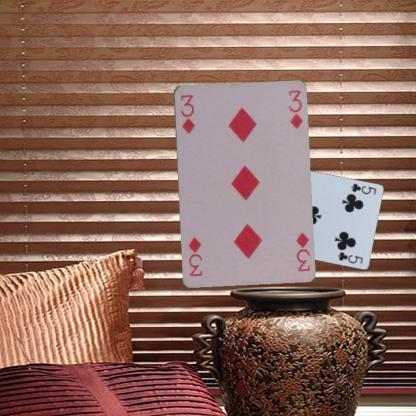3d: (177, 91, 196, 135), (293, 229, 311, 273)
5c: (348, 181, 378, 196)
